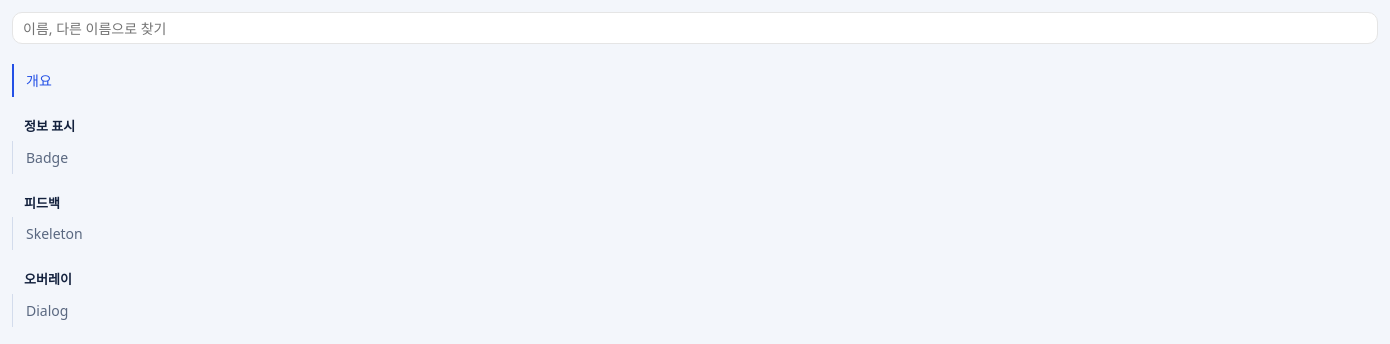
ComponentNav › says so when nothing matches
In the search field named "컴포넌트 검색": x=695, y=28 top-left (12, 12), bottom-right (1378, 44), type "xyz"
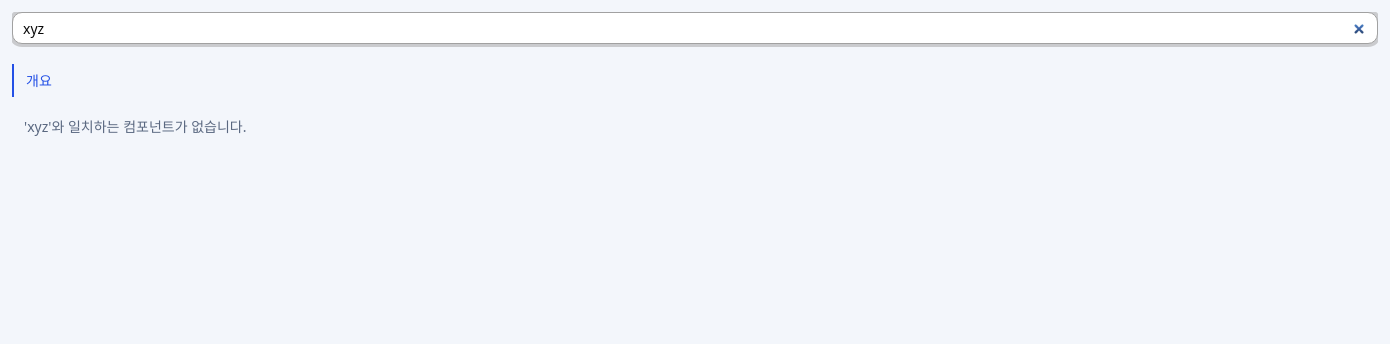
Expected: the text "'xyz'와 일치하는 컴포넌트가 없습니다." is shown, top-left (24, 117), bottom-right (246, 136)
